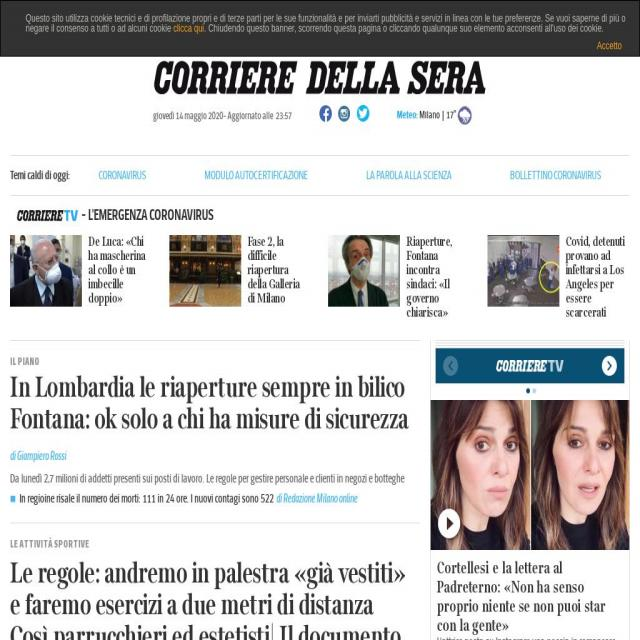follow-options: (314, 103, 371, 132)
navigation-links: (91, 158, 626, 210)
